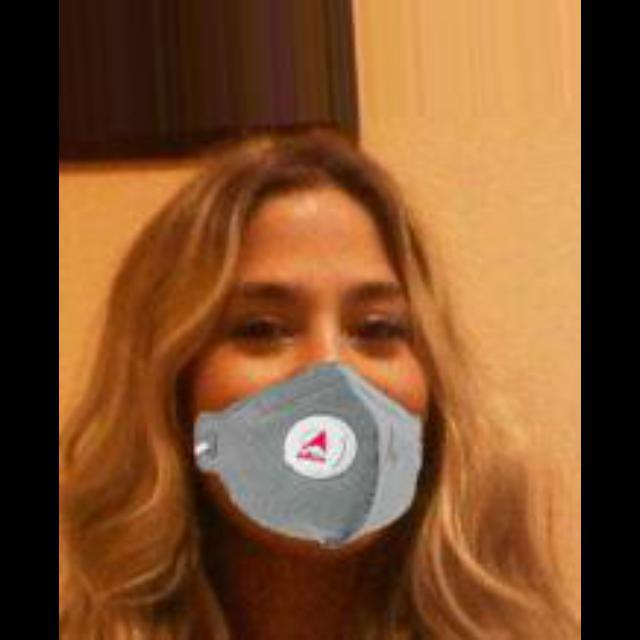suspicion: (154, 140, 474, 548)
